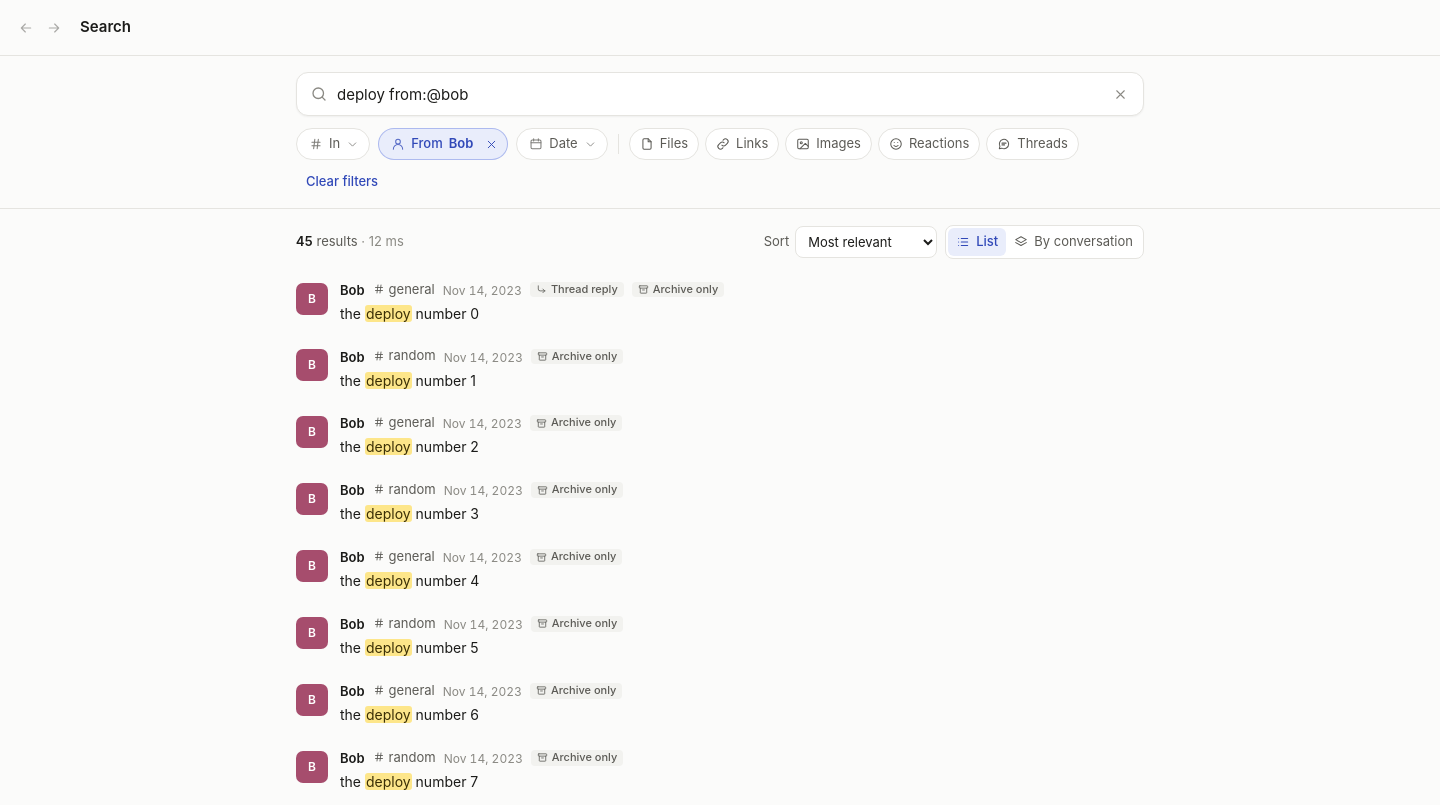
Test: SearchPage › shows typed modifiers as chips; clearing one removes it from the text
Expected: the 1st text "Bob" is shown, top-left (449, 134), bottom-right (473, 154)
Click the button named "Clear From filter" at (491, 144), box top-left (479, 132), bottom-right (503, 156)
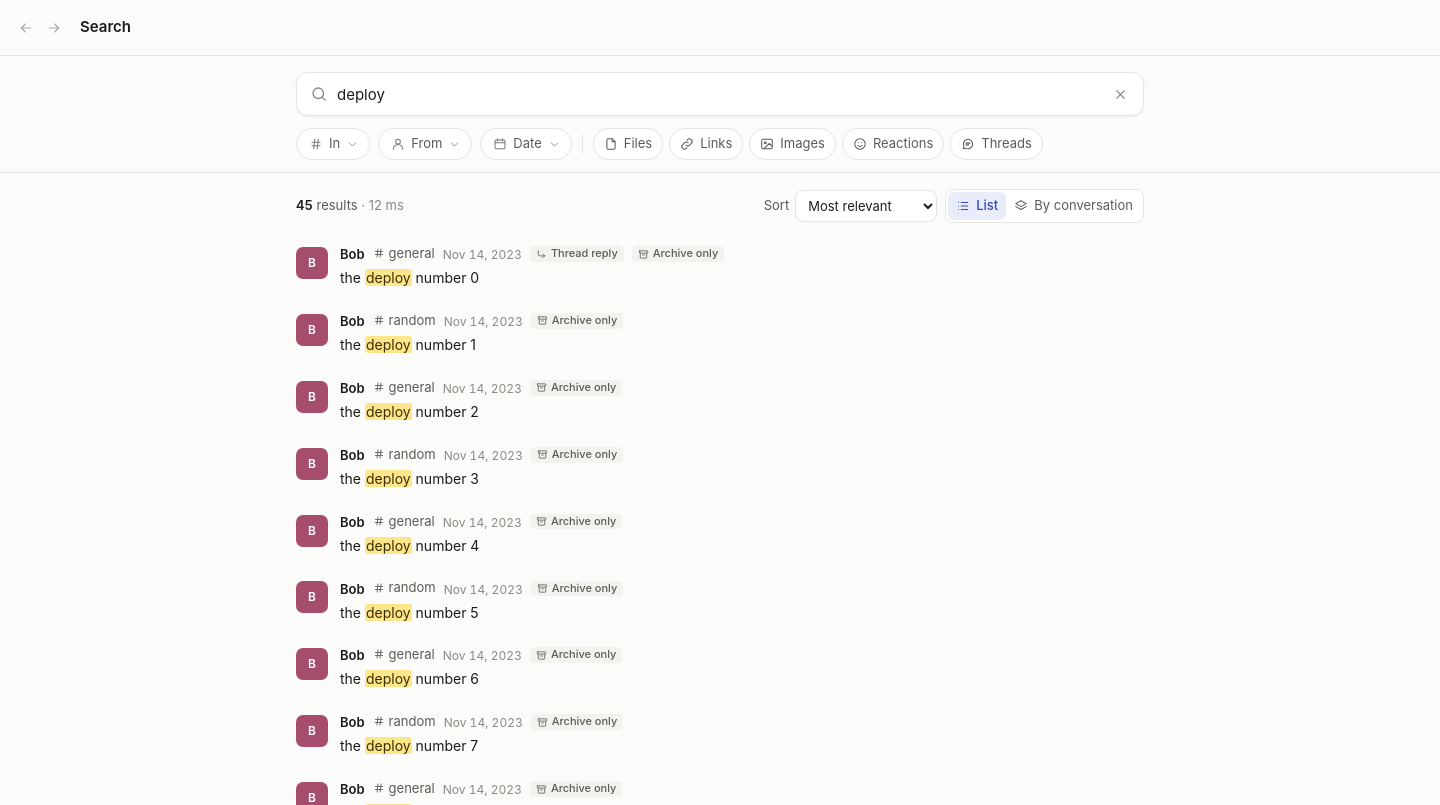
Expected: the text "deploy" next to "number 0" is shown, top-left (366, 269), bottom-right (411, 286)
Now the dropdown named "Search messages" holds "deploy", box top-left (296, 72), bottom-right (1144, 116)
